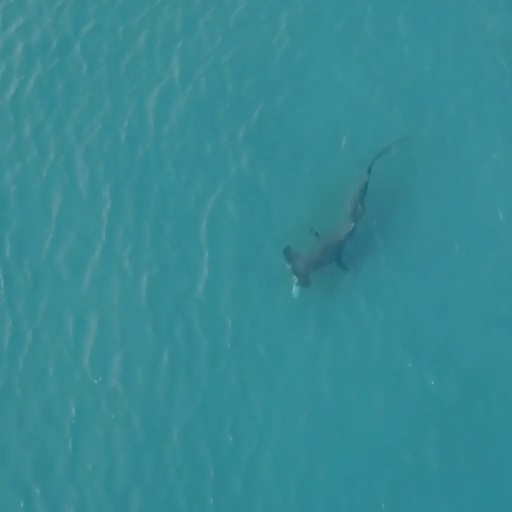shark: (279, 134, 404, 292)
